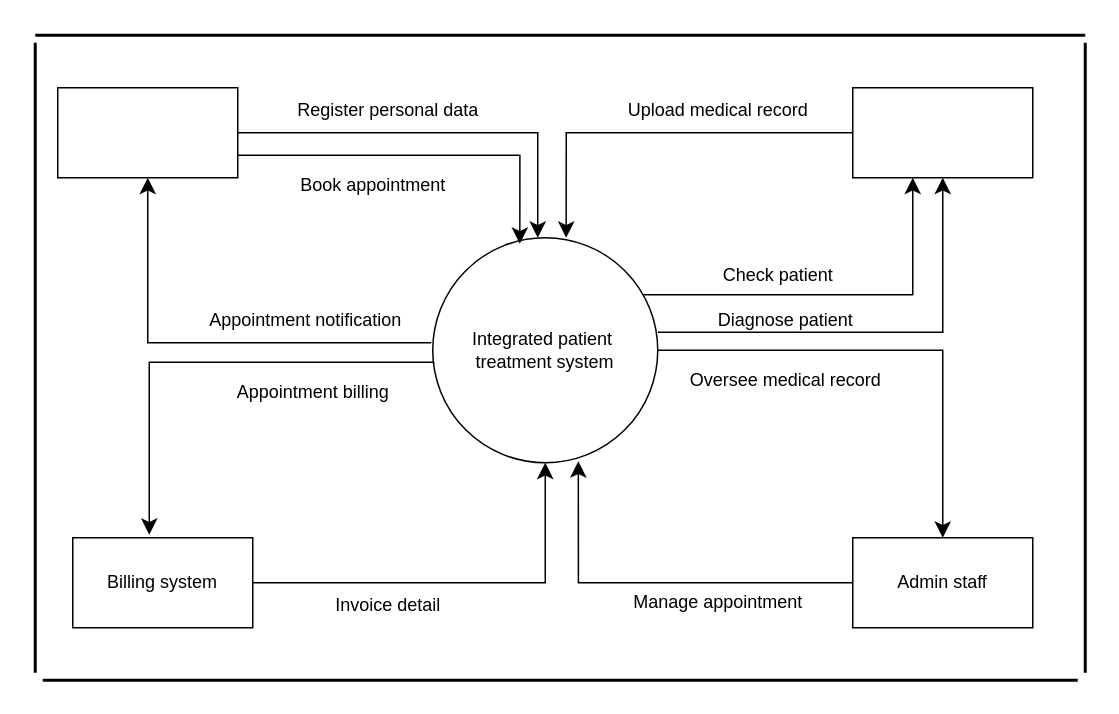
This 1119x714 diagram has some shape labels left out. Each missing label, with the centre of its shape:
"Doctor" goes at pixel 942 132.
"Patient" goes at pixel 147 132.
